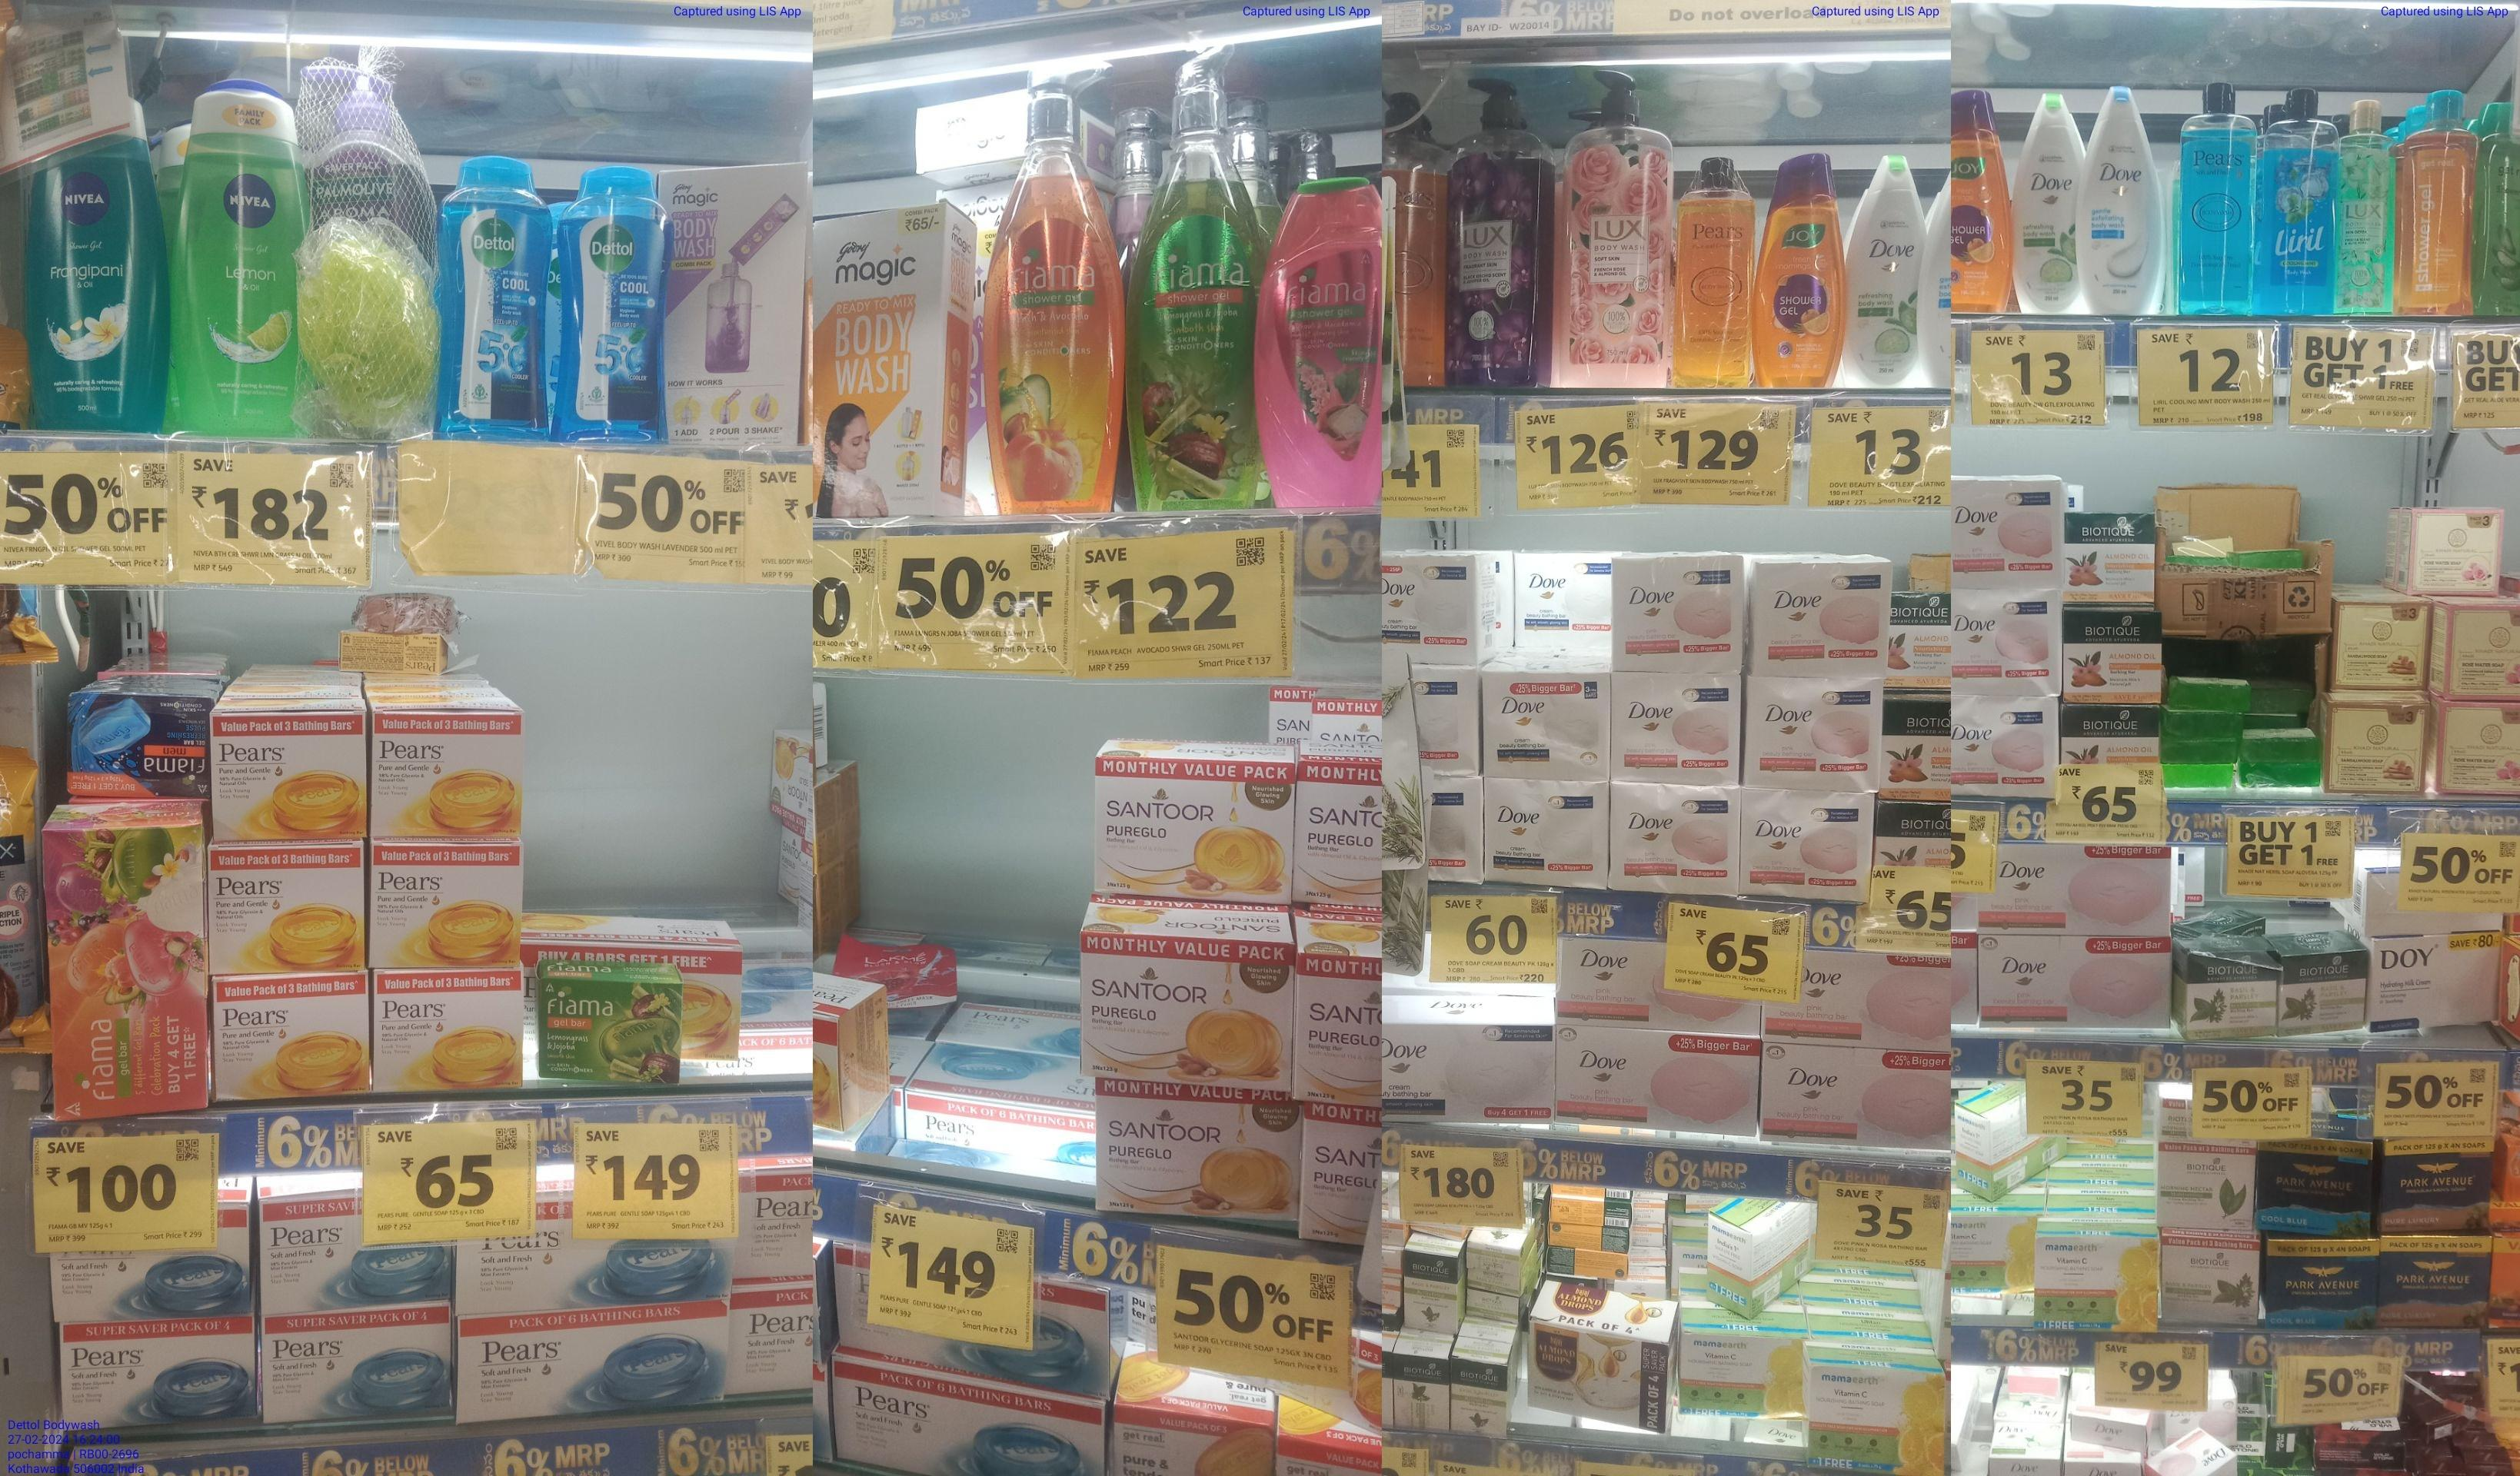Dettol_Bodywash_Cool: (438, 153, 550, 452), (564, 155, 663, 455)
Dove_Gentle_Exfoliating_Body_Wash_250ML: (2082, 76, 2160, 313)
Dove_Refreshing_Body_Wash_250ML: (1852, 148, 1923, 390), (2014, 86, 2081, 309)
Fiama_Shower_Gel_Patchouli_and_Macadamia_250ML: (1260, 174, 1385, 520)
Joy_Shower_Gel_Mandarin_and_Lemongrass_250ML: (1757, 142, 1849, 388), (1951, 83, 2012, 320)
Liril_Cooling_Mint_Body_Wash_250ML: (2262, 86, 2337, 318)
Lux_Body_Wash_Skin_Detox_Freesia_Scent_and_Alove_Vera_245ML: (2346, 90, 2395, 327)
Nivea_Shower_Gel_Frangipani_and_Oil_250ML: (28, 86, 162, 439)
Nivea_Shower_Gel_Lemon_and_Oil_250ML: (179, 79, 308, 441)
Pears_Pure_Glycerin_and_Mint_Extracts_Body_Wash_250ML: (2174, 81, 2251, 320)
